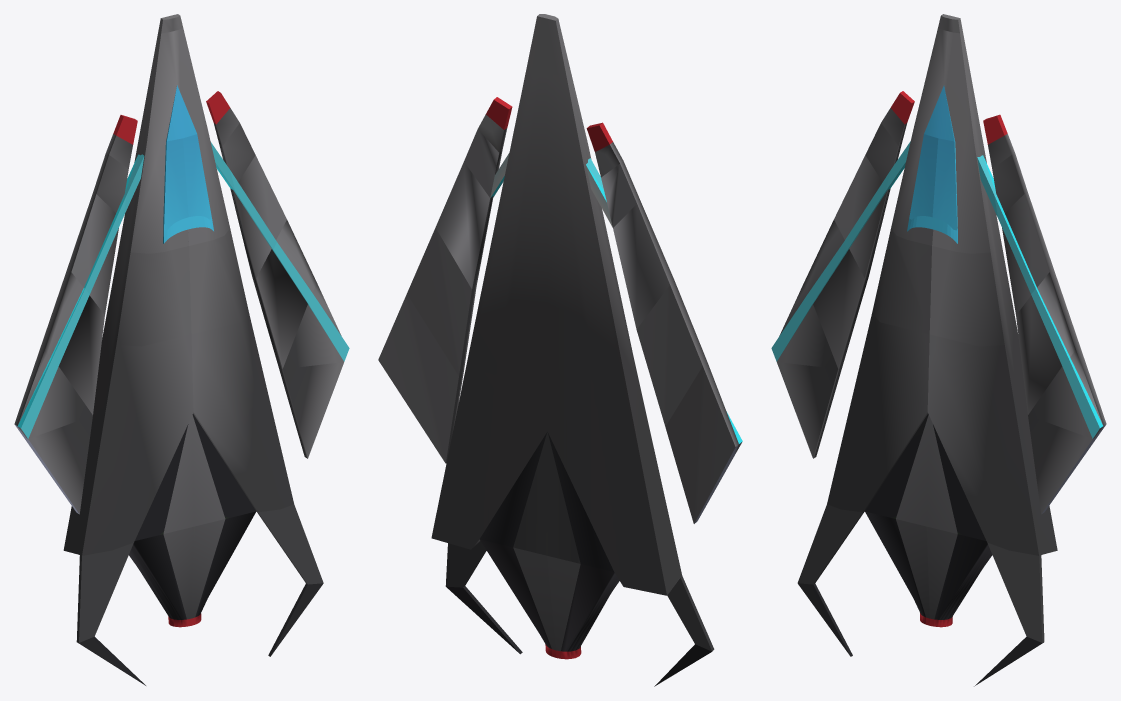
The model's file is shipFixed.fbx.
The picture shows the model from 3 angles, left to right: view 1: azimuth 30°, elevation 25°; view 2: azimuth 150°, elevation 25°; view 3: azimuth 330°, elevation 25°; orthographic projection. The views are drawn at different scales.
Parts seen in each view (by area): view 1: ship, left_wing, right_wing; view 2: ship, left_wing, right_wing; view 3: ship, right_wing, left_wing.
Boxes of the visible parts, x1,y1,x2,y2 form: ship: (63,14,323,685); left_wing: (14,115,144,514); right_wing: (206,91,349,458); ship: (431,14,714,686); left_wing: (586,122,742,523); right_wing: (378,97,512,463); ship: (797,14,1057,686); right_wing: (977,114,1106,514); left_wing: (771,91,914,458).
Size of the model in its own units: 1090 by 1988 by 228.
1 material, 1 textured.
